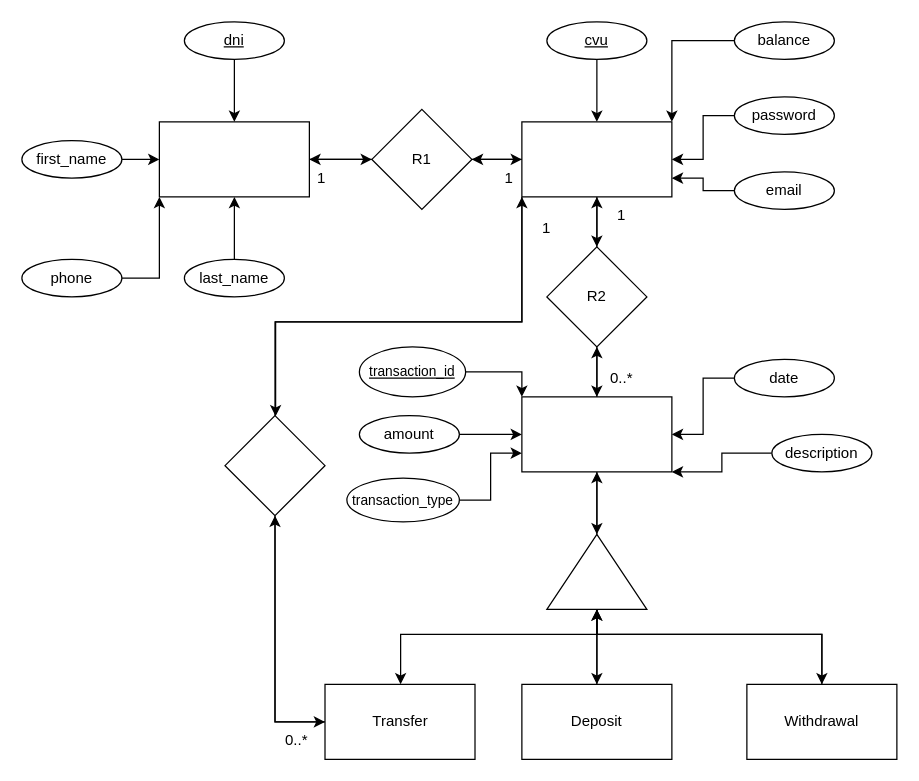
Some shapes in this 919 by 781 pixel diagram are drawn without their labels. The shapes that lost their labels are listed below. From the top down, each one's centre as x and y in pixels, then its label:
At (x=233, y=159): "User".
At (x=596, y=159): "Account".
At (x=596, y=434): "Transaction".
At (x=274, y=465): "R3".
